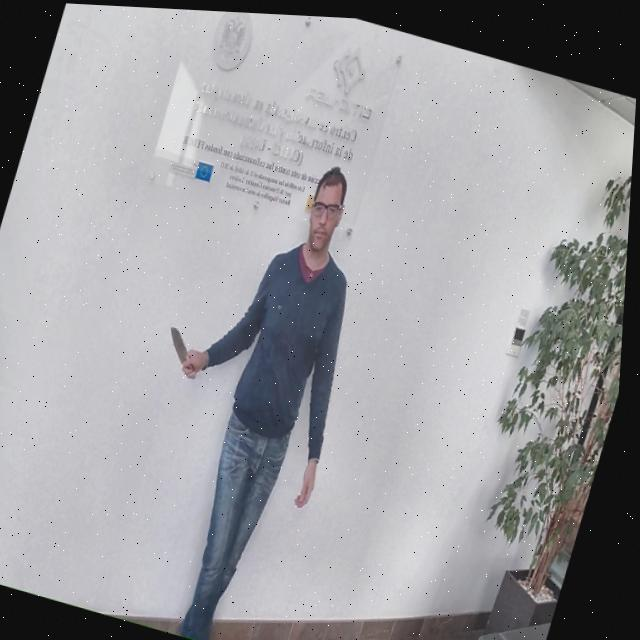knife: (164, 320, 200, 363)
